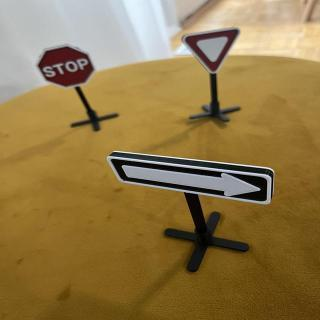sign_oneway_right: (107, 152, 276, 208)
sign_stop: (35, 43, 99, 92)
sign_yield: (181, 25, 243, 77)
